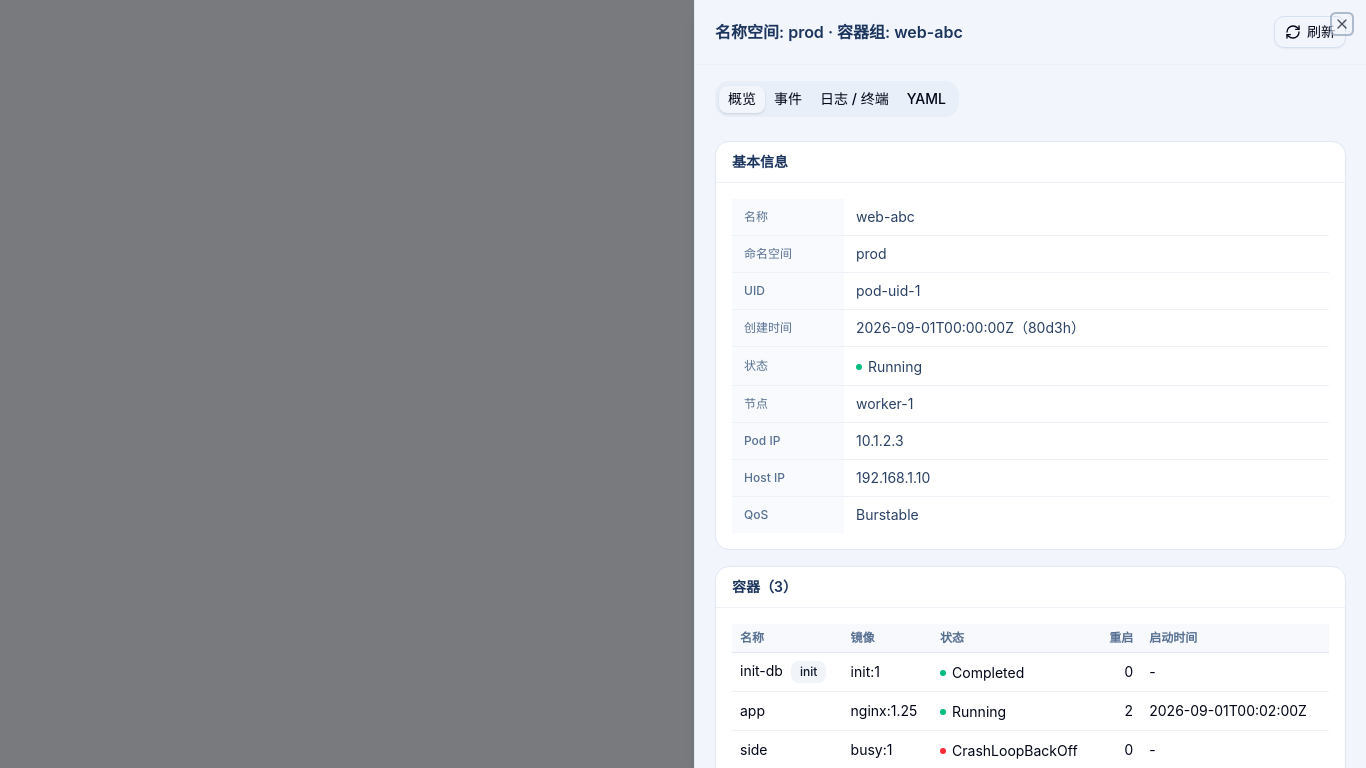
Test: PodDetailDrawer › fetches pod events via a server-side field selector
Click the tab "事件".
click(788, 99)  # box top-left (765, 86), bottom-right (811, 112)
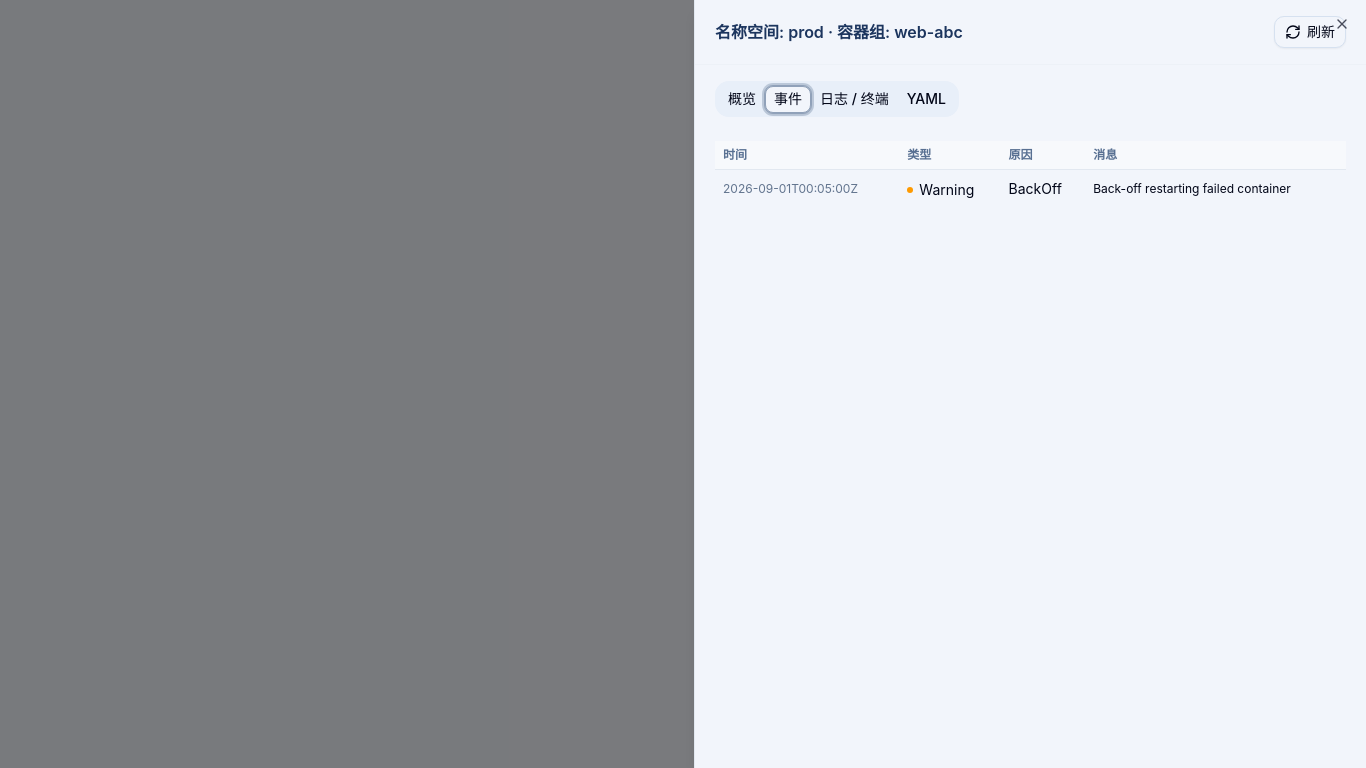
Expected: the text "BackOff" is shown, top-left (1001, 170), bottom-right (1085, 208)
Result: the text "Back-off restarting failed container" is shown at top-left (1085, 170), bottom-right (1346, 208)
